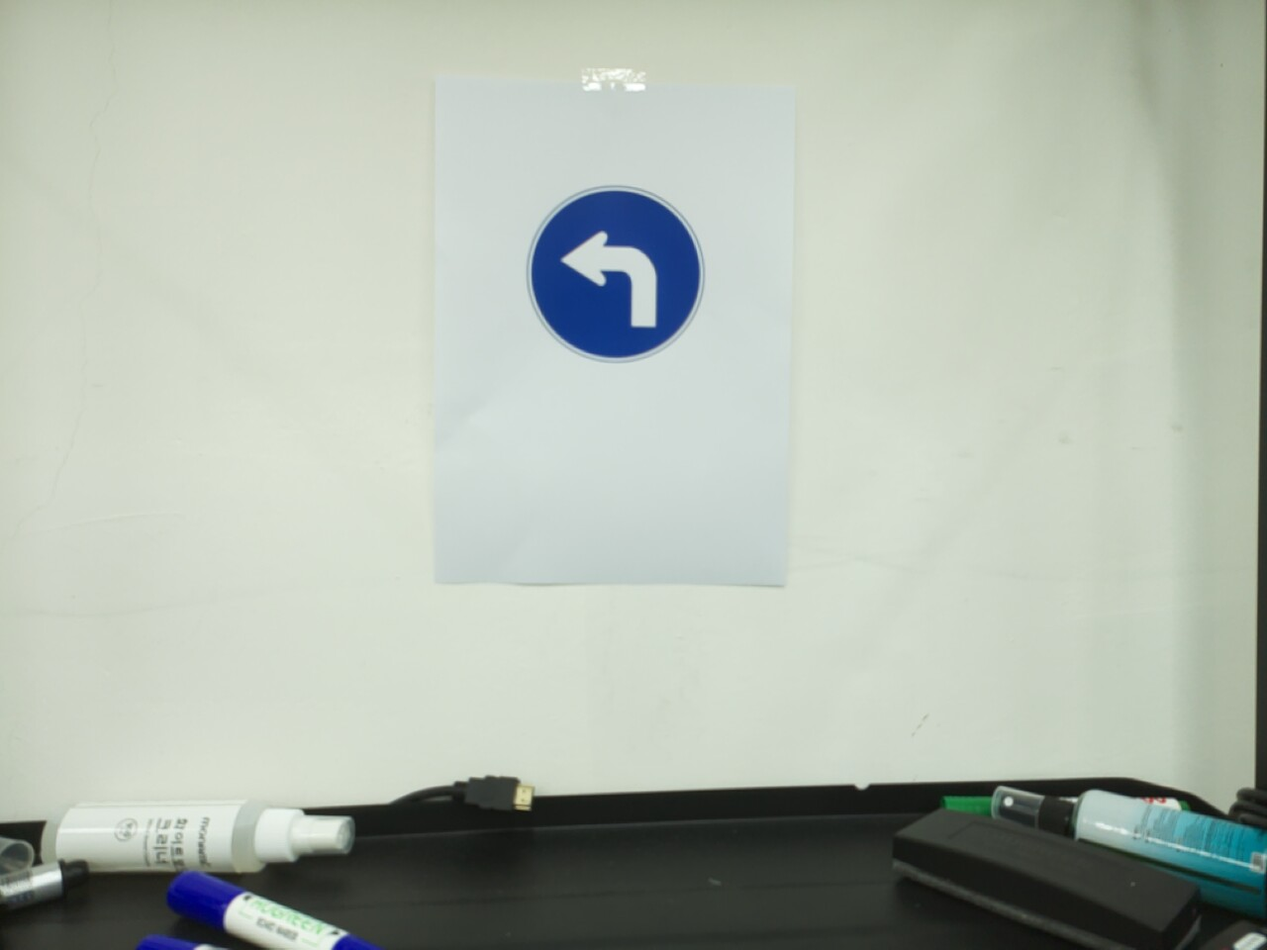left_turn: (525, 183, 707, 365)
